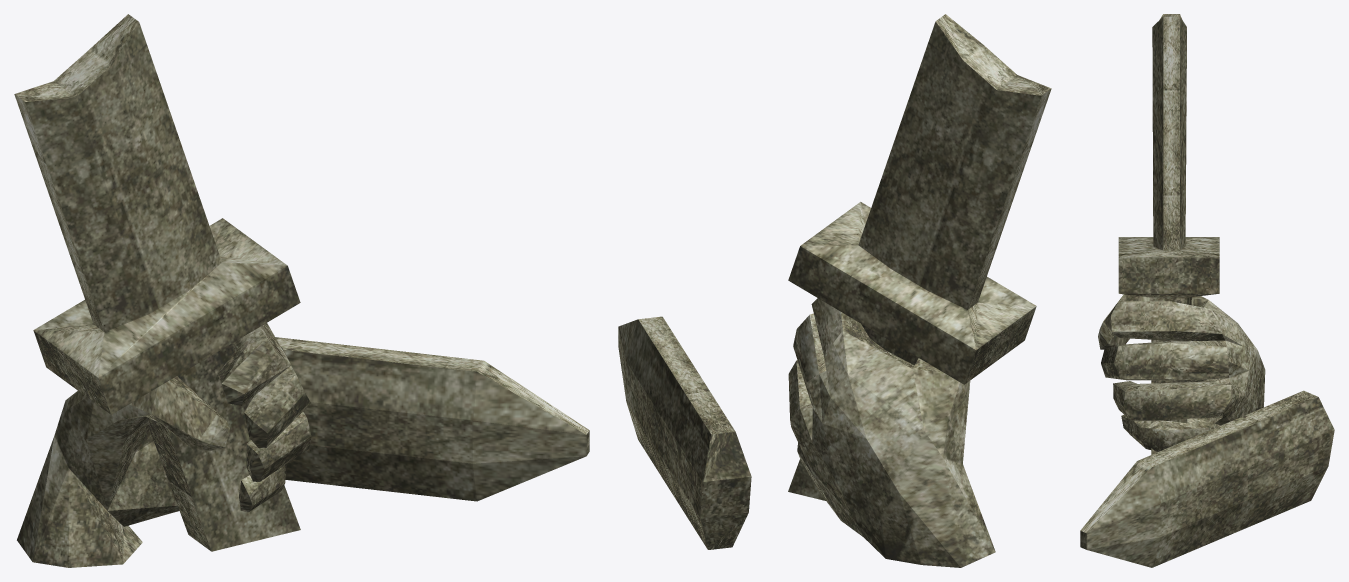
The model's file is ob-bigstatue02.fbx.
3 renders of one model, left to right at view 1: azimuth 30°, elevation 25°; view 2: azimuth 150°, elevation 25°; view 3: azimuth 270°, elevation 25°, orthographic. The views are drawn at different scales.
Visible parts, largest first — view 1: Object01; view 2: Object01; view 3: Object01.
Part boxes in pixels (bbox=[...]): Object01: bbox=[14, 14, 589, 567]; Object01: bbox=[618, 14, 1051, 567]; Object01: bbox=[1080, 14, 1334, 567].
Size of the model in its own units: 5.81 by 5.88 by 3.2.
